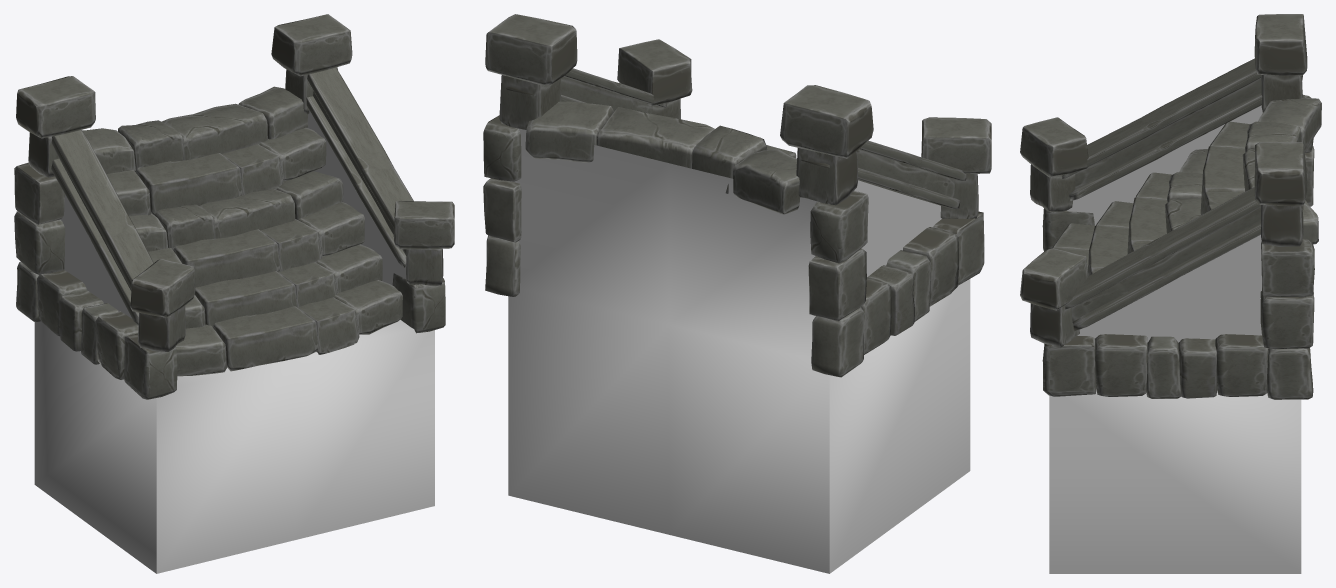
File: Platform_Stair.fbx
3 views of the same model, side by side, from view 1: azimuth 30°, elevation 25°; view 2: azimuth 150°, elevation 25°; view 3: azimuth 270°, elevation 25° (orthographic). The views are drawn at different scales.
Visible parts, largest first — view 1: Brick_LP.026; view 2: Brick_LP.026; view 3: Brick_LP.026.
Part boxes in pixels (left/top/right/bottom): Brick_LP.026: left=14, top=14, right=454, bottom=573; Brick_LP.026: left=483, top=14, right=991, bottom=573; Brick_LP.026: left=1020, top=14, right=1321, bottom=573.
Bounding box in the file's own units: 3377 × 3979 × 2635.
